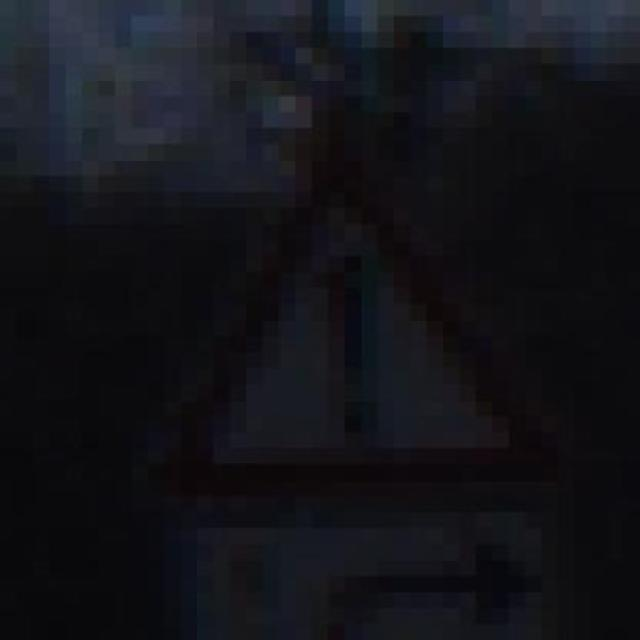Attention Please-: (144, 95, 538, 542)
